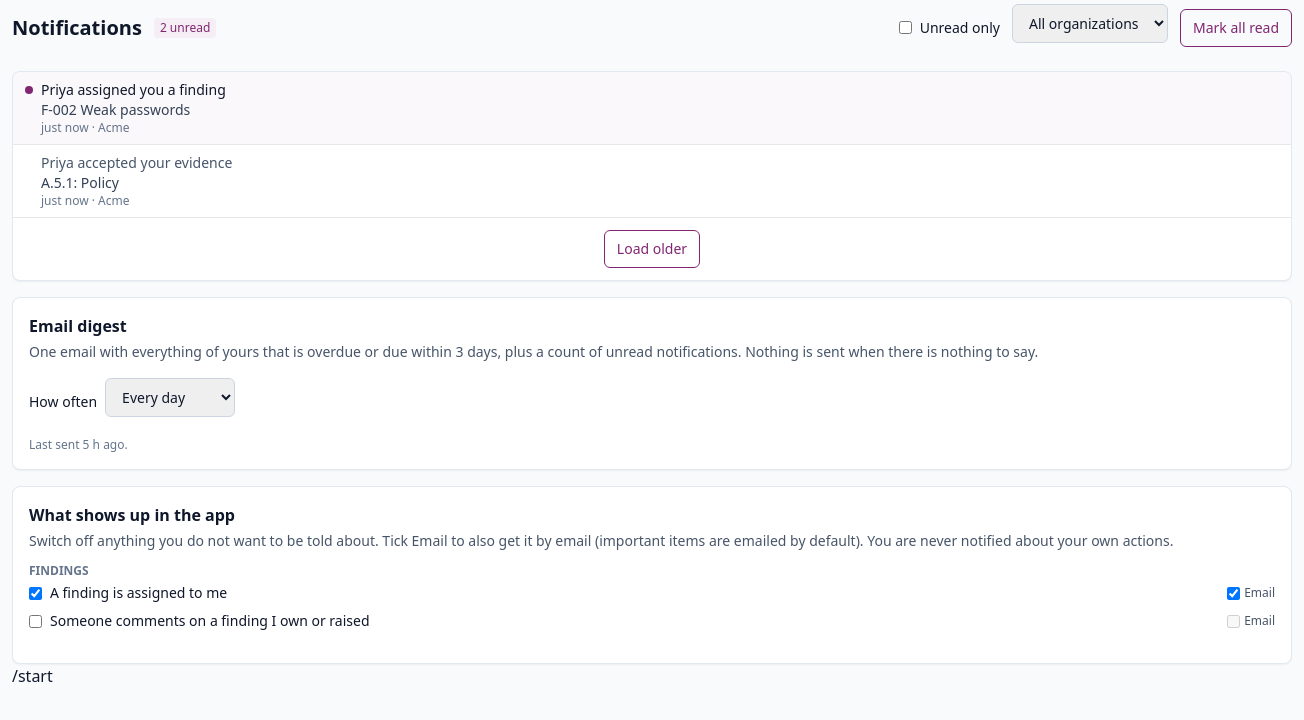
Scenario: the page filters by unread and organization, loads older items, and offers the settings
The image size is (1304, 720).
Expected: the heading "Notifications" is shown, [12,14,142,42]
Expected: the text "F-002 Weak passwords" is shown, [41,100,190,119]
Click the checkbox labelled "Unread only".
click(905, 28)  # box [899,21,912,34]
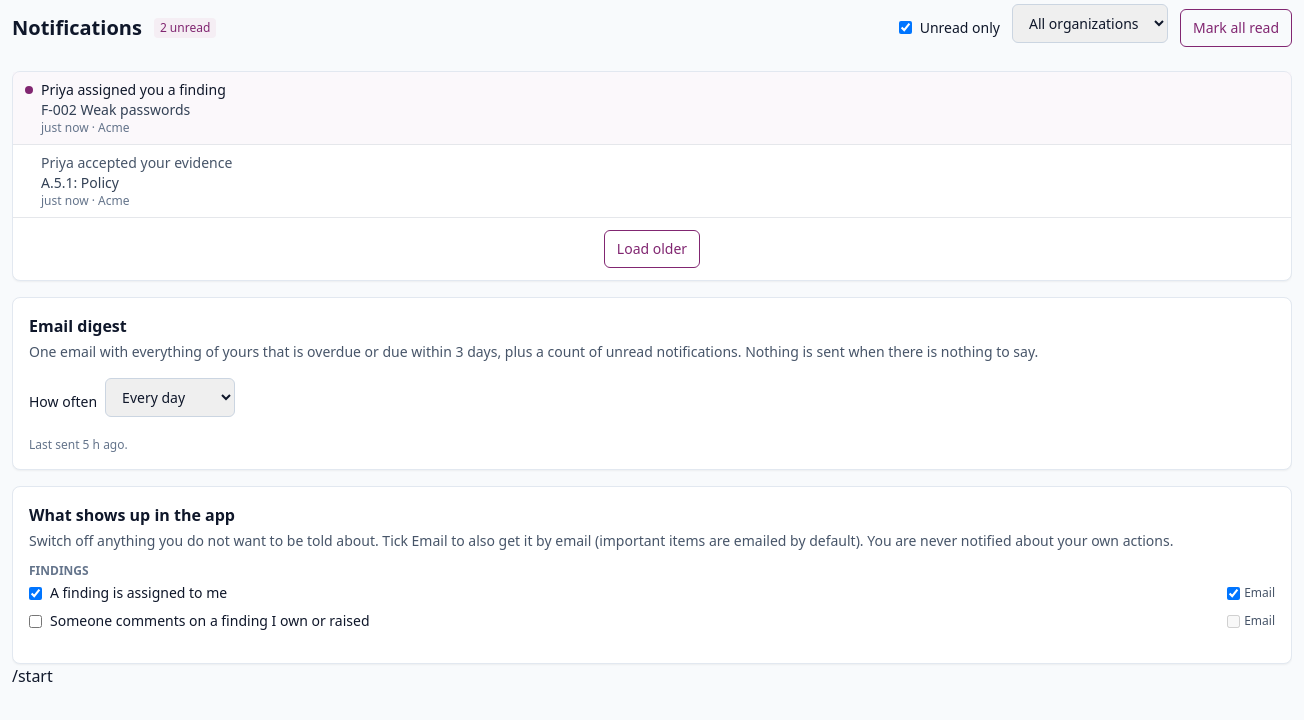
Select "Acme (2)" in the dropdown named "Organization" at (1090, 24), box [1012,4,1168,43]
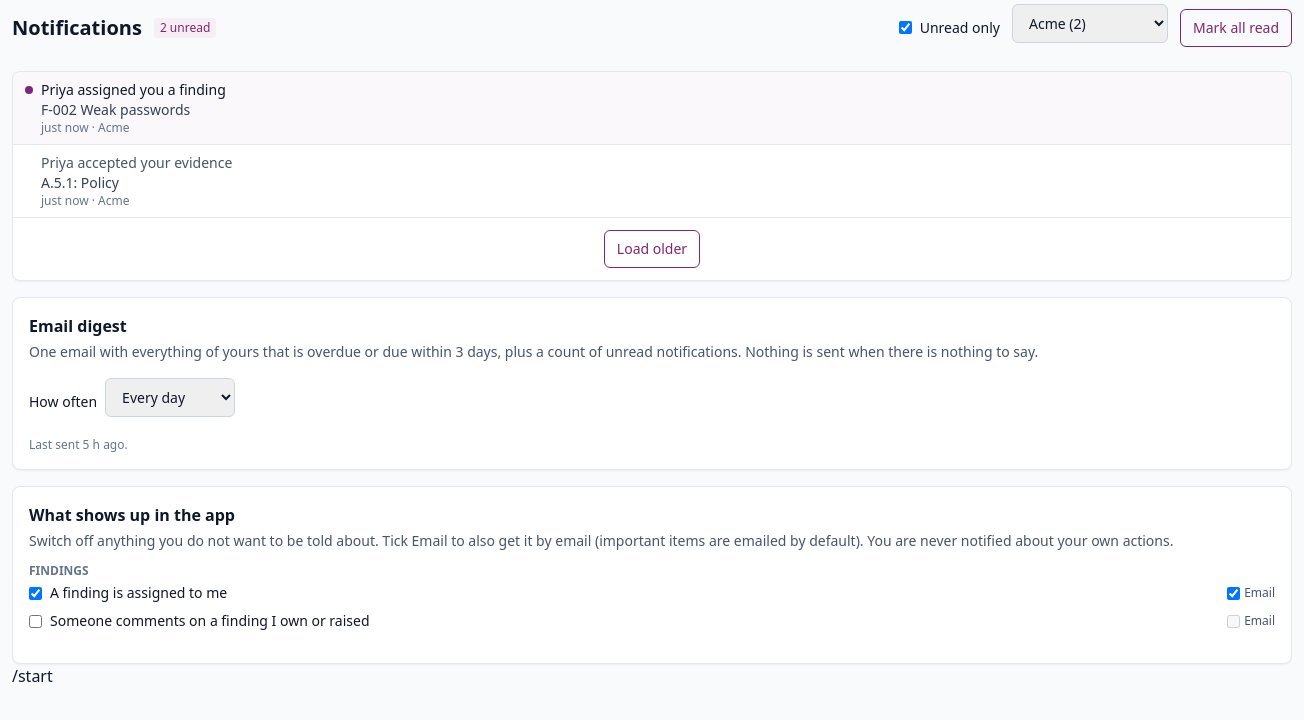
Click the button "Load older".
click(652, 249)  # box [604,230,700,268]
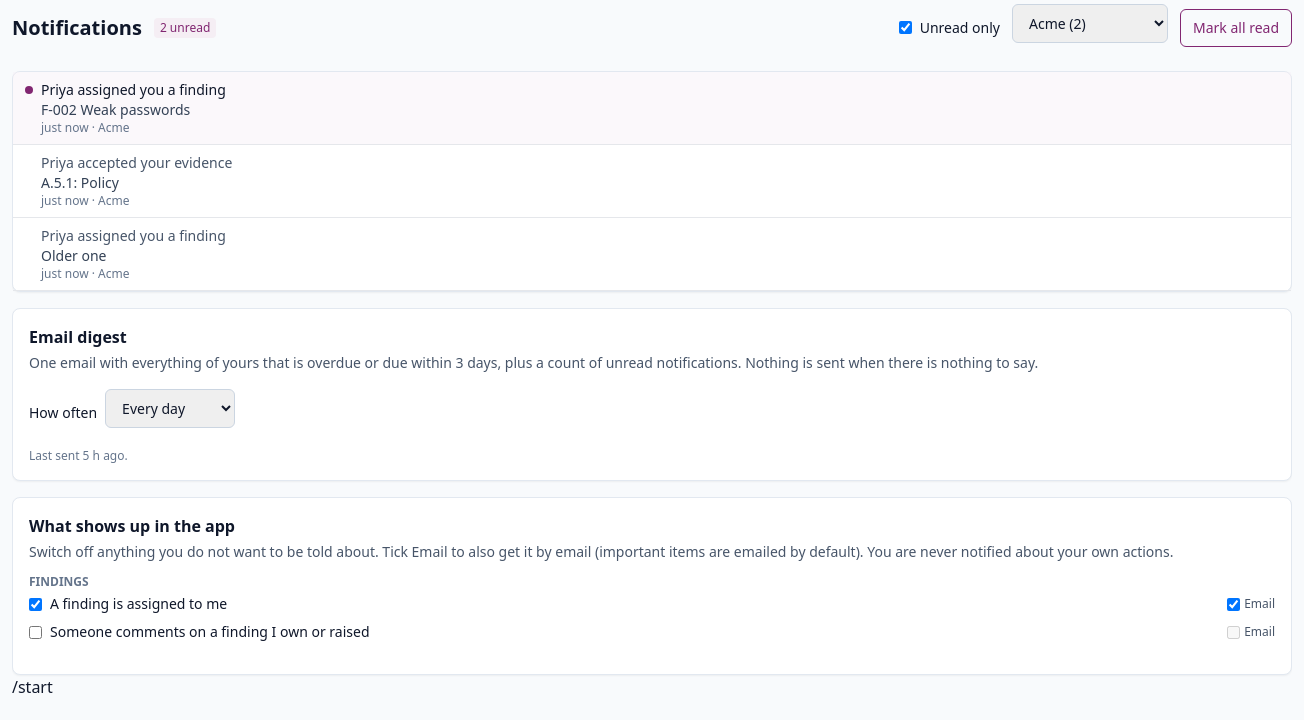
Result: the text "Older one" is shown at [41,246,106,265]
